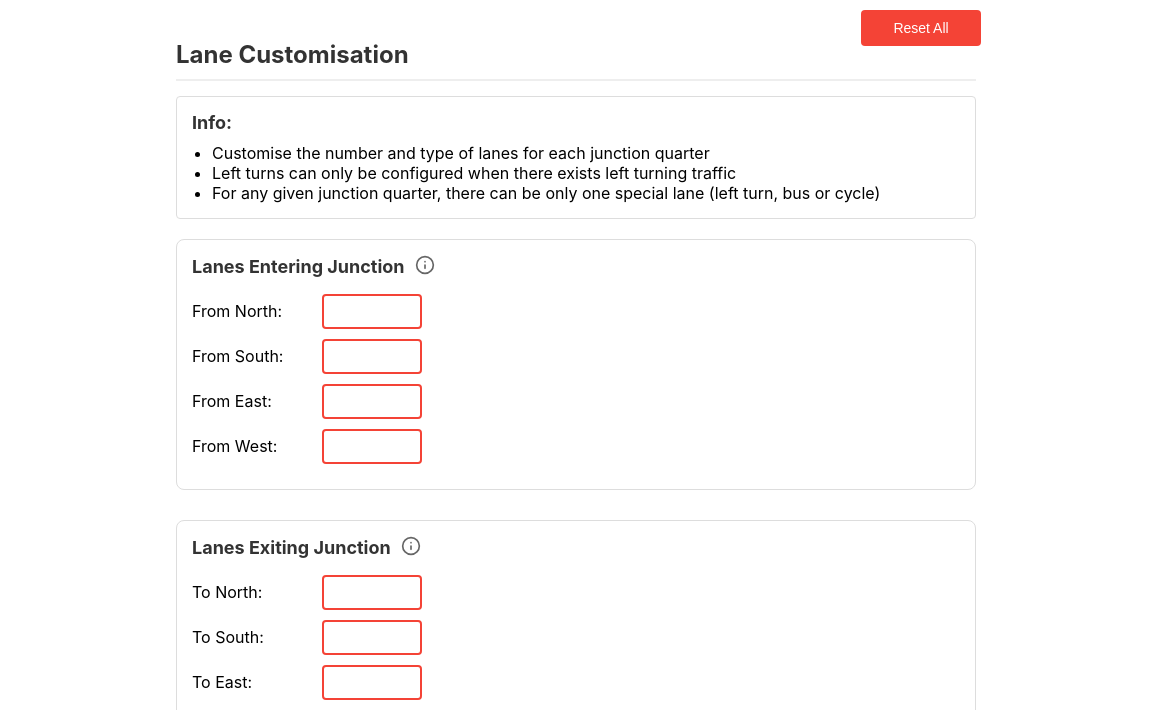
it: LaneCustomisation Component - Core Input Functionality › limits lane input to minimum value of 0
This screenshot has width=1152, height=710.
Type "-1" into the number field labelled "To East:". click: (372, 682)
box: [322, 665, 422, 700]
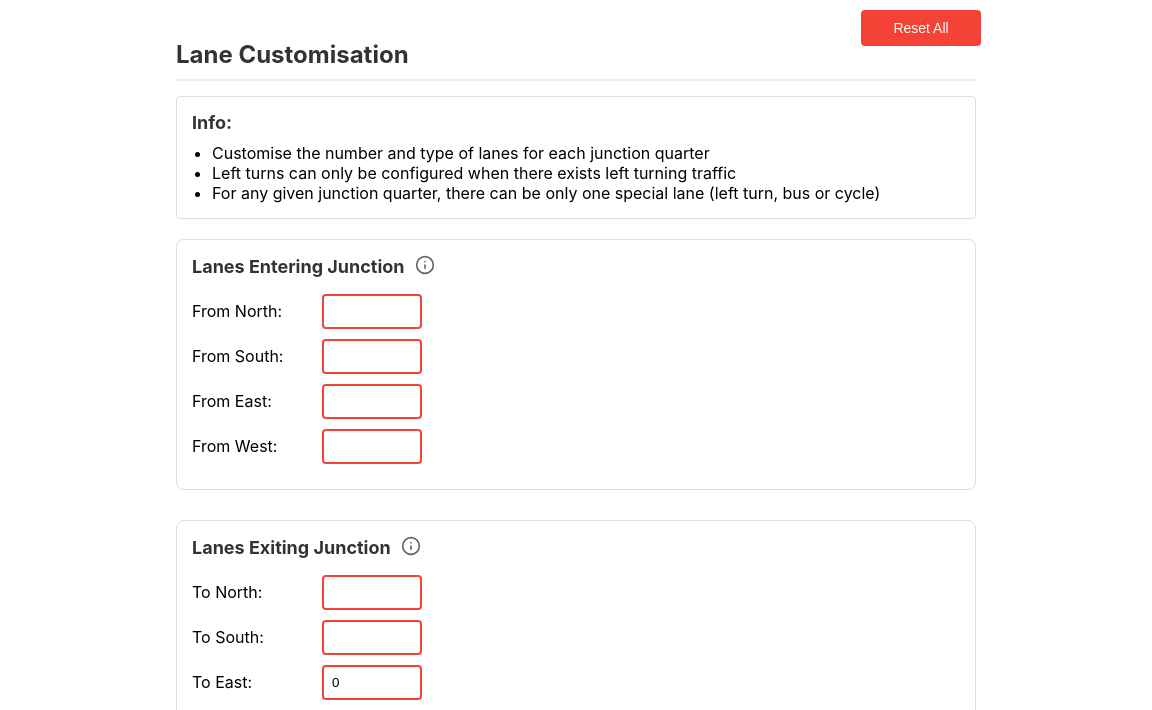
Now the number field labelled "To East:" holds "0", box [322, 665, 422, 700]
